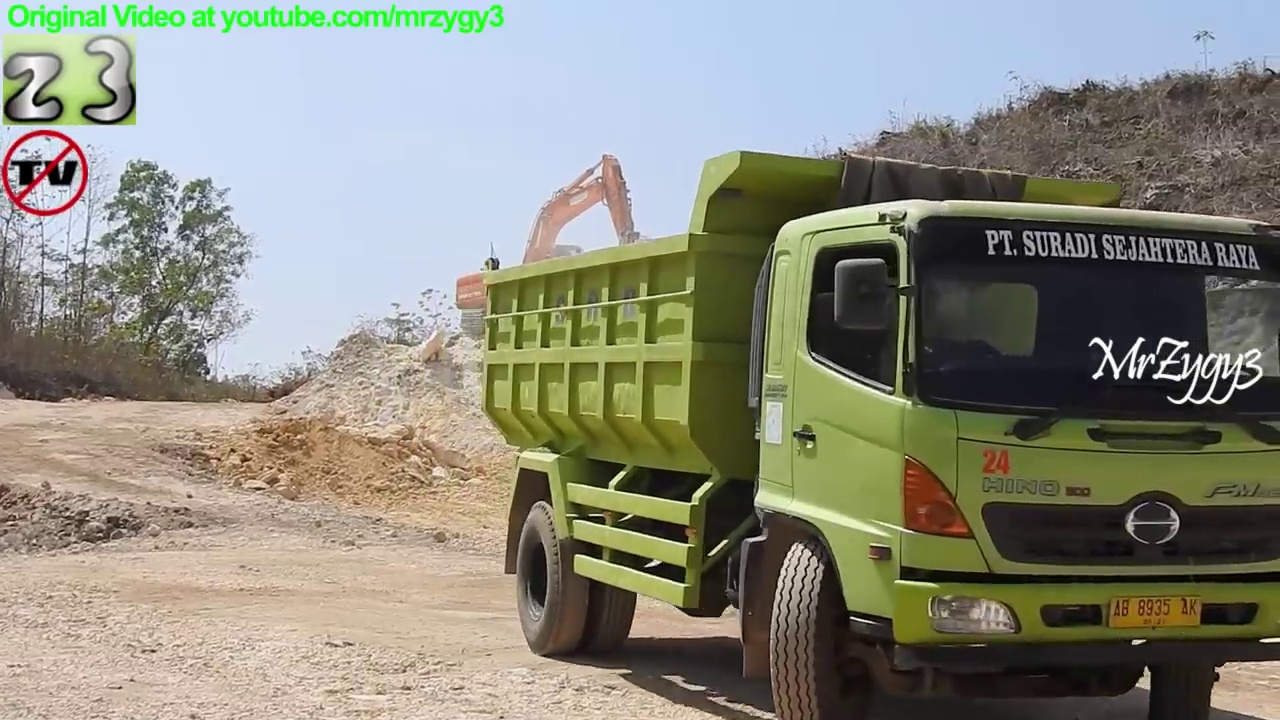excavator: (450, 148, 674, 350)
truck: (474, 140, 1280, 720)
